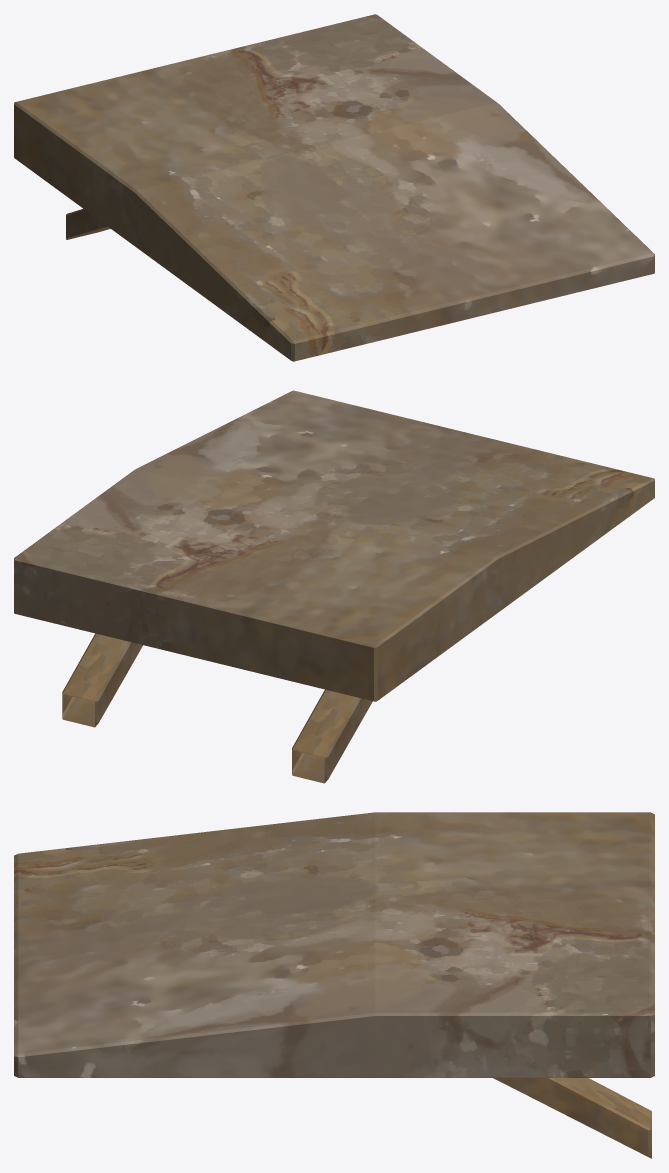
File: Big_Platform.FBX
The picture shows the model from 3 angles, top to bottom: view 1: azimuth 30°, elevation 25°; view 2: azimuth 150°, elevation 25°; view 3: azimuth 270°, elevation 25°; orthographic projection. The views are drawn at different scales.
Visible parts, largest first — view 1: Big_Platform001; view 2: Big_Platform001; view 3: Big_Platform001.
Boxes of the visible parts, x1,y1,x2,y2 form: Big_Platform001: [14, 14, 654, 361]; Big_Platform001: [14, 390, 654, 783]; Big_Platform001: [14, 812, 654, 1158].
Bounding box in the file's own units: 302 × 119 × 403.
